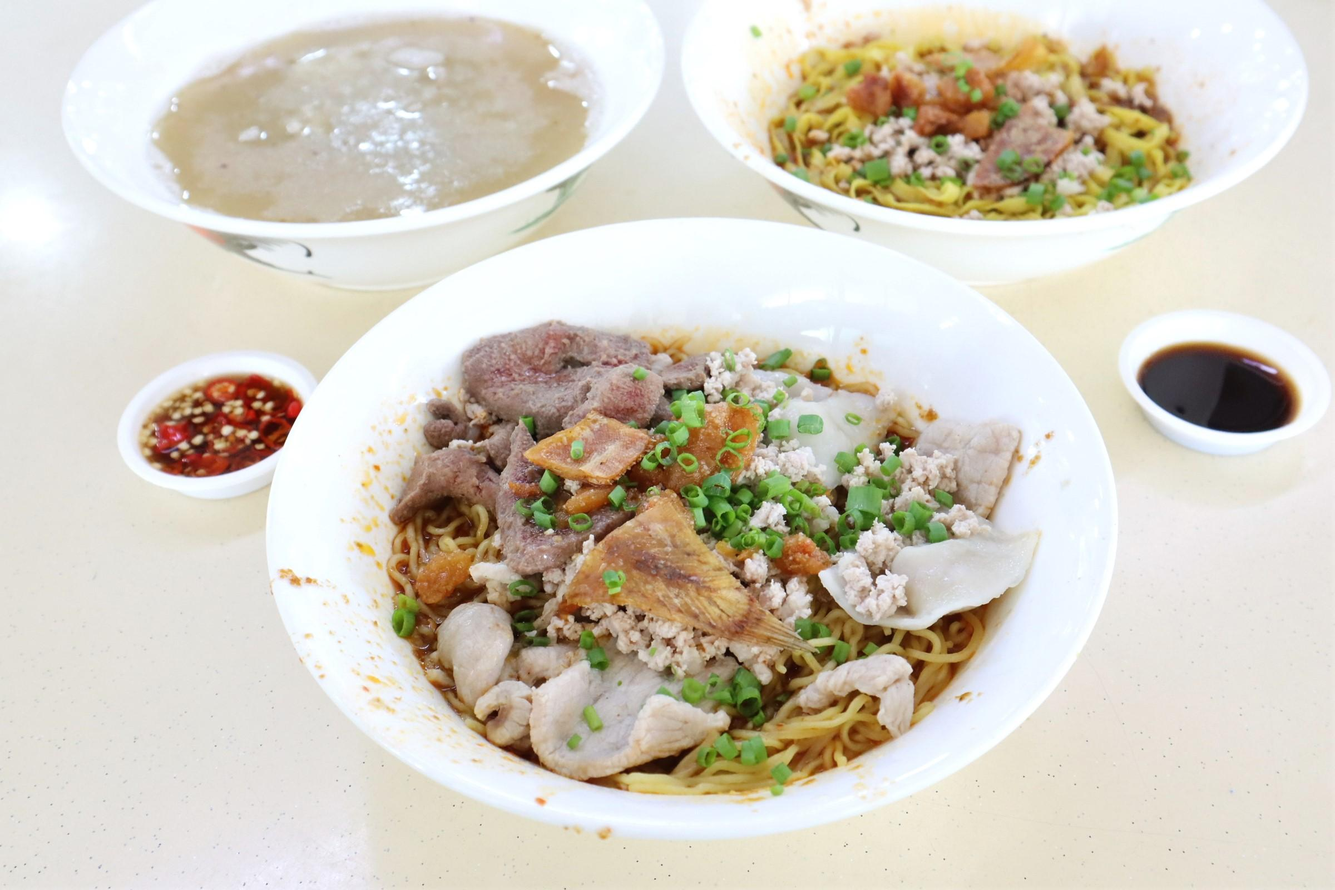Braised Crucian Carp: (274, 217, 1107, 845), (57, 0, 646, 296), (698, 2, 1297, 288)
